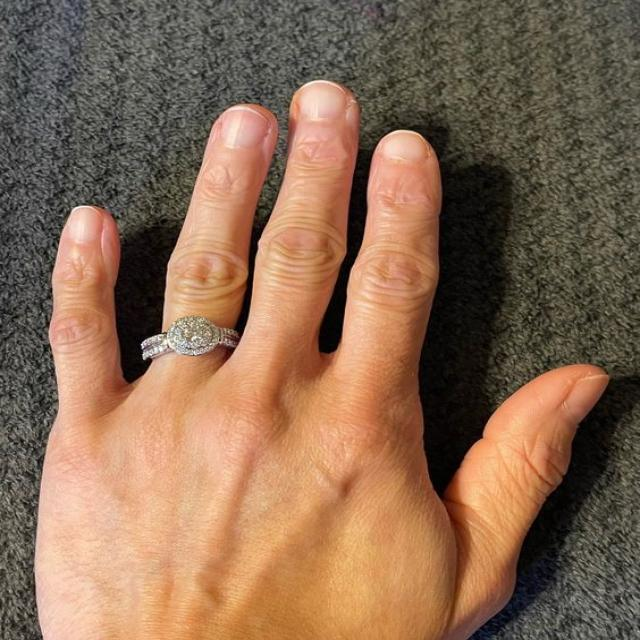Fingernail: (296, 80, 346, 123), (222, 108, 269, 150), (382, 131, 427, 163), (67, 205, 101, 245)
